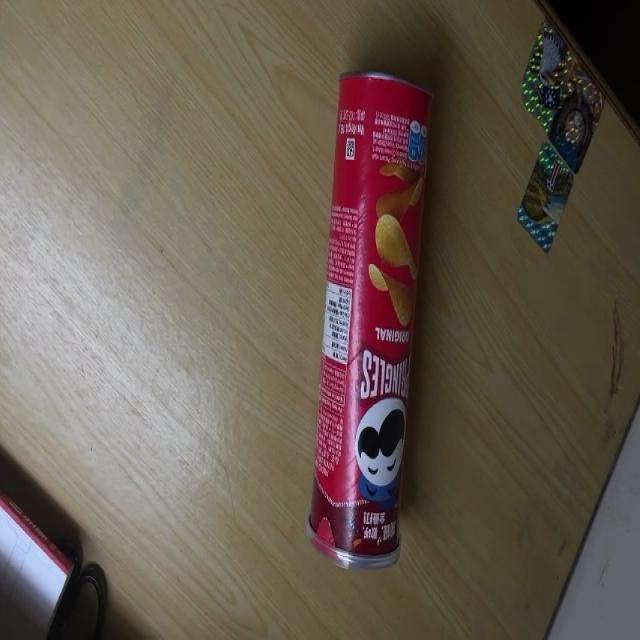Pringles: (307, 72, 437, 570)
